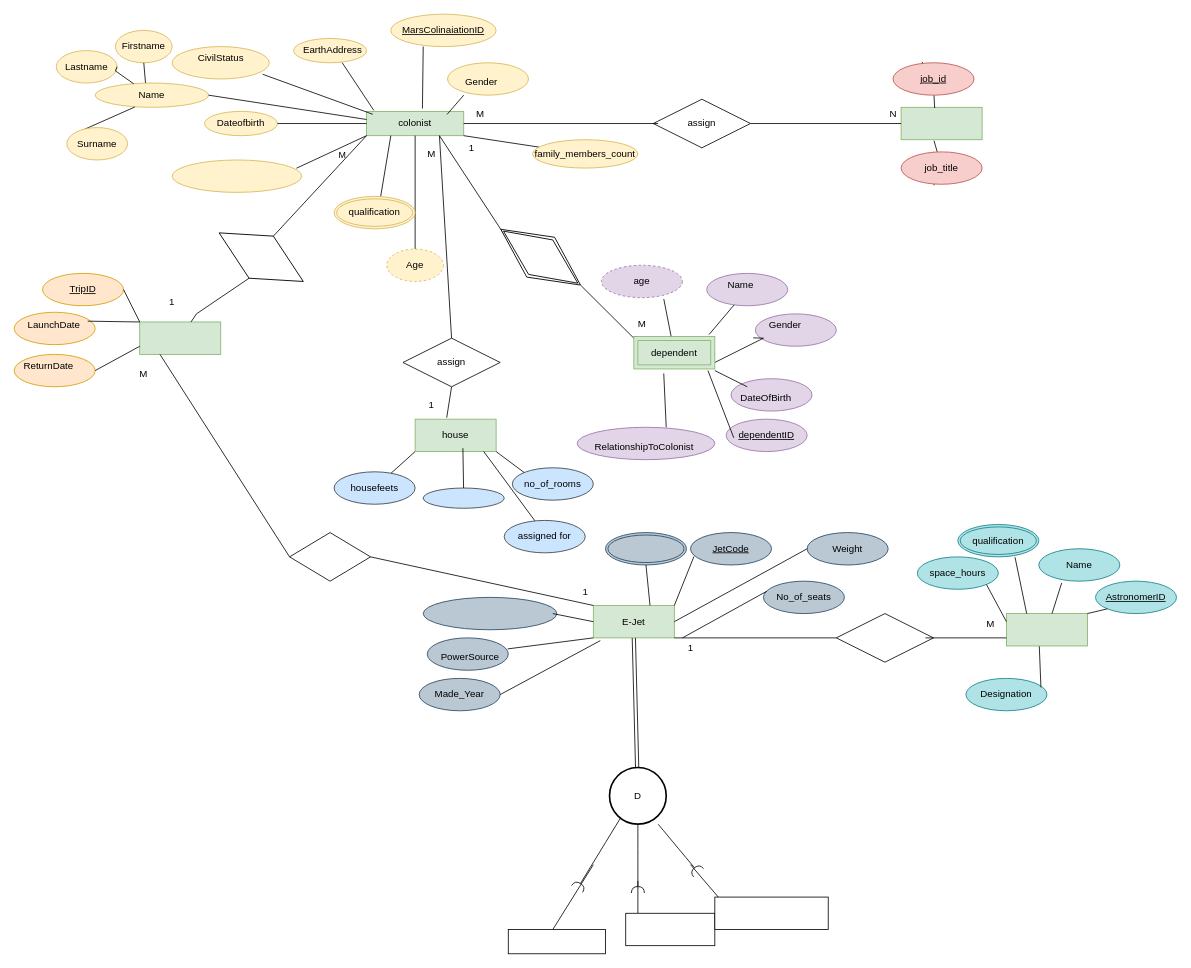
This 1191x968 diagram has some shape labels left out. Each missing label, with the centre of its shape:
"assign pilot" goes at [645,548].
"astronomer" goes at [1046,629].
"can have" goes at [540,256].
"colony_lot_no" goes at [463,497].
"ContactNo" goes at [236,175].
"get" goes at [261,257].
"go" goes at [330,556].
"HYDRO_NUC" goes at [771,912].
"job" goes at [941,123].
"NUC&HYDRO SPLITTER" goes at [670,929].
"NUC_POWER" goes at [556,941].
"NuclearEnginePower" goes at [489,613].
"operates" goes at [885,637].
"Trip" goes at [180,337].
